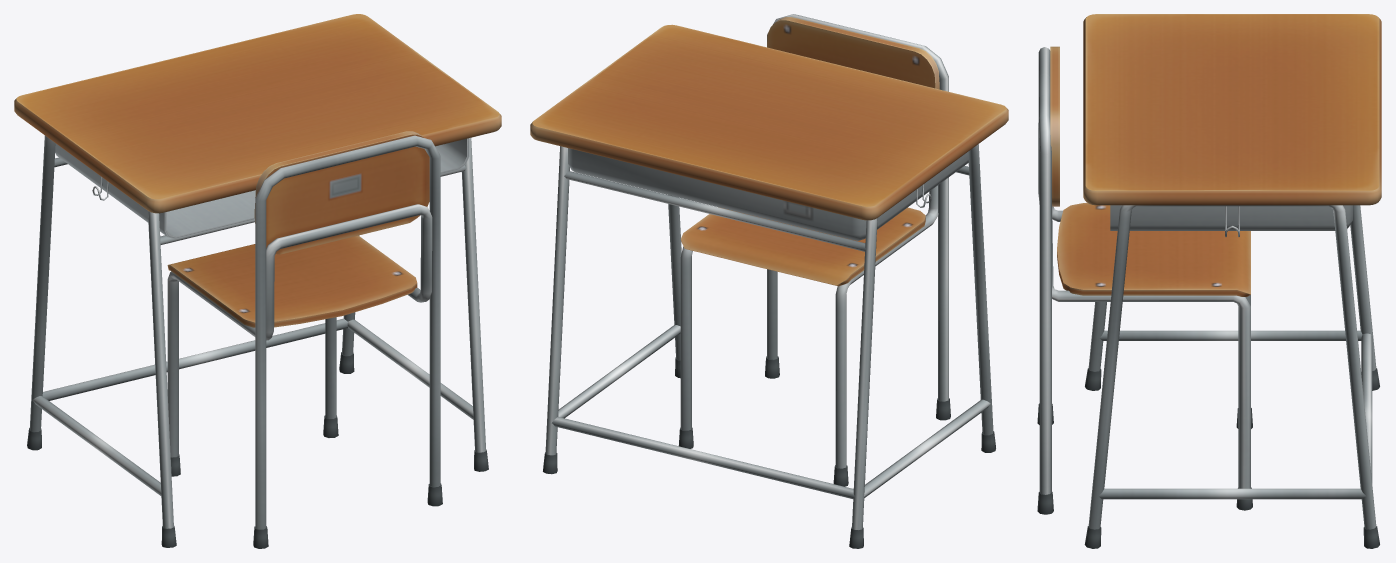
The model's file is School_desk_chair_01_L.fbx.
3 views of the same model, side by side, from view 1: azimuth 30°, elevation 25°; view 2: azimuth 150°, elevation 25°; view 3: azimuth 270°, elevation 25° (orthographic). The views are drawn at different scales.
Visible parts, largest first — view 1: school_desk, school_chair; view 2: school_desk, school_chair; view 3: school_desk, school_chair.
Boxes of the visible parts, box(x1,y1,x2,y2) form: school_desk: box(14, 14, 501, 547); school_chair: box(167, 131, 442, 548); school_desk: box(530, 24, 1008, 548); school_chair: box(678, 14, 950, 486); school_desk: box(1083, 14, 1381, 548); school_chair: box(1037, 46, 1252, 514).
Size of the model in its own units: 80 by 80.59 by 64.98.
